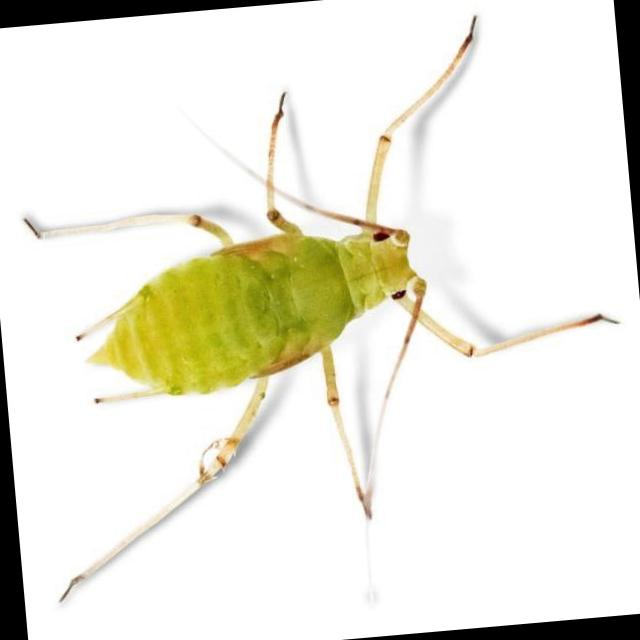aphid: (0, 27, 604, 606)
